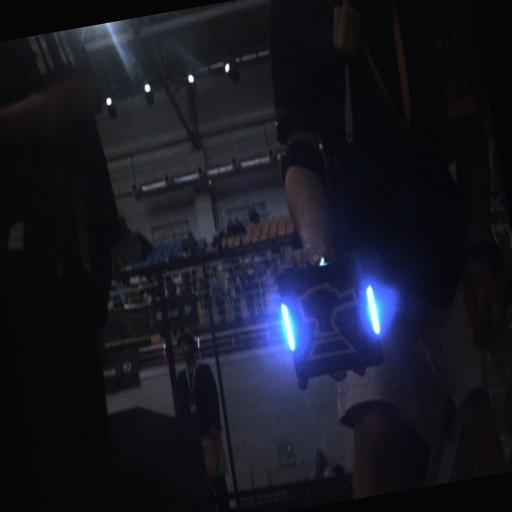target: (270, 253, 392, 384)
